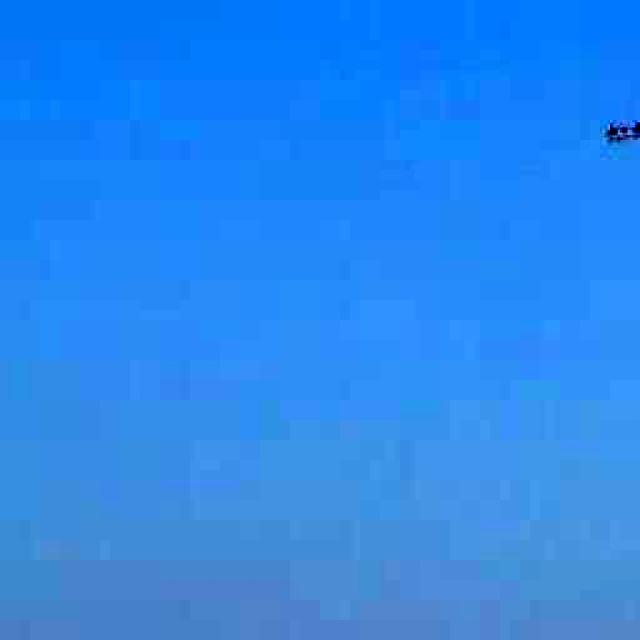bird: (579, 90, 640, 162)
